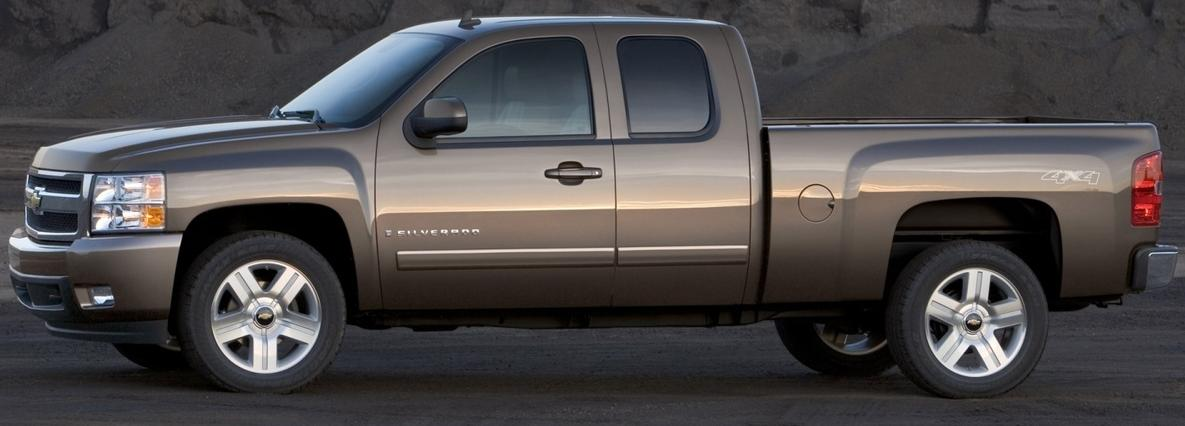backlight: (1113, 156, 1170, 232)
front_view: (13, 148, 175, 319)
headlight: (87, 166, 174, 243)
side_glass: (397, 36, 724, 151)
